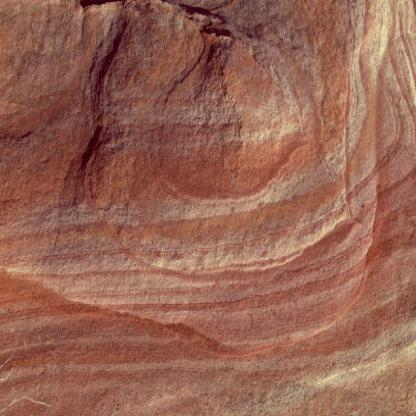Sedimentary_Sandstone: (3, 5, 415, 415)
